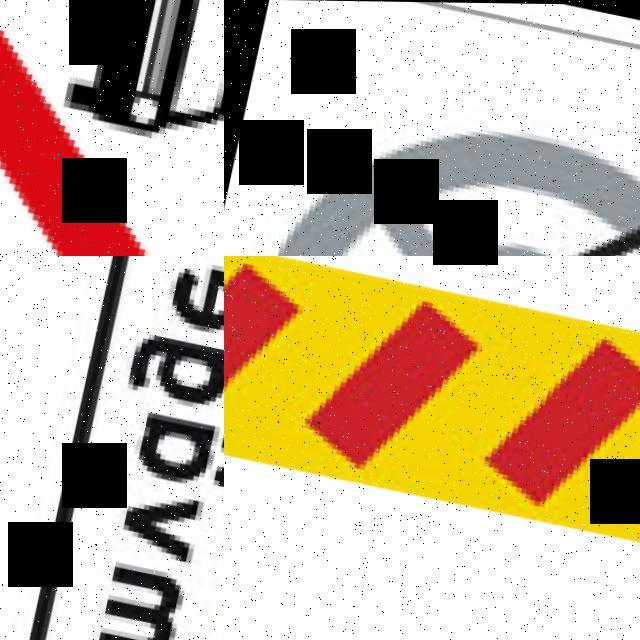111: (224, 0, 640, 256)
171: (3, 256, 224, 640)
4: (224, 256, 640, 554)
No entry for motor vehicles: (0, 0, 224, 256)
